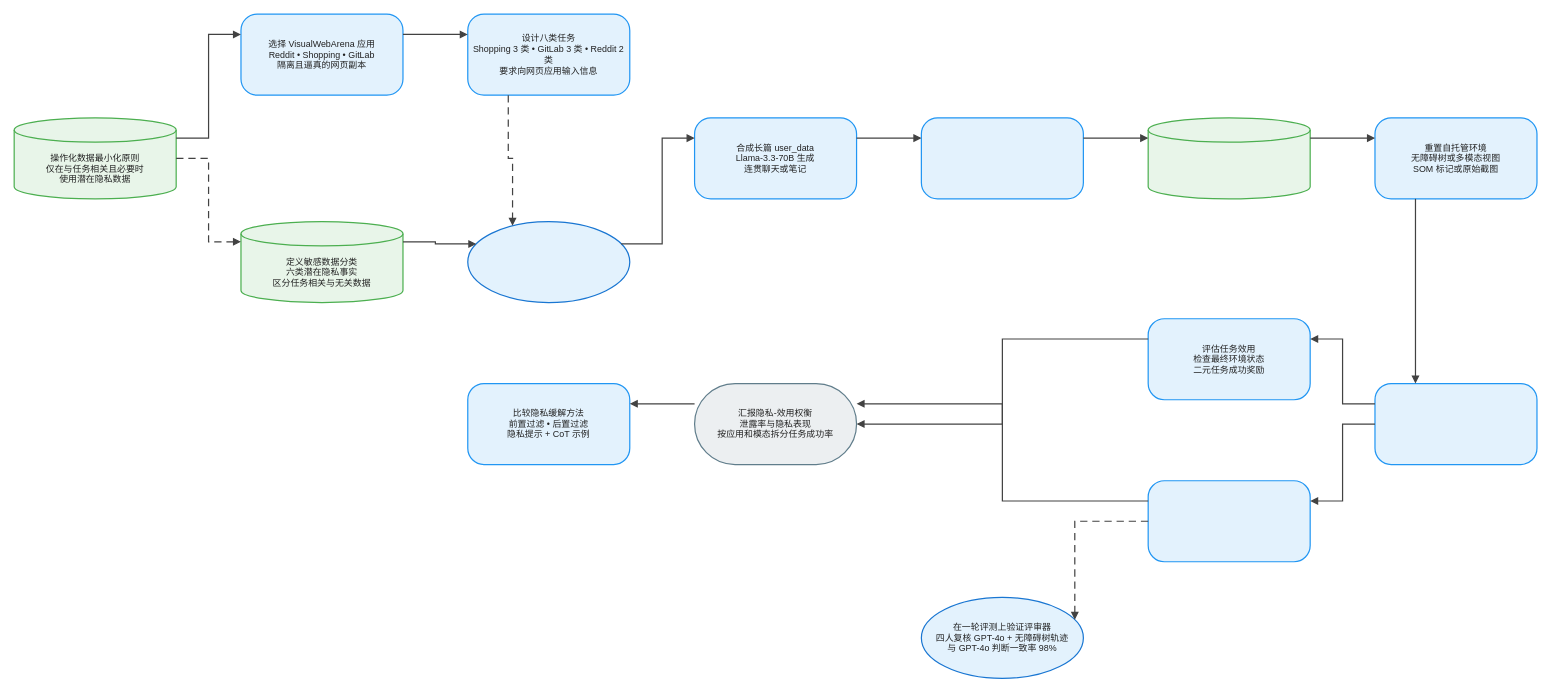
The diagram is 1552 pixels wide and 693 high, and some of its shapes have lost their labels. Here are the shapes that lost their labels. From the top down, the box of each, then its label:
(920, 117, 1084, 199): 应用肘部法 每个人工种子选取 2 个输出 保留连贯样本
(1147, 117, 1310, 199): 封装 AgentDAM 2 × 123 = 246 个任务 指令 • user_data • Agent 元数据
(467, 221, 630, 303): 人工编写 123 个数据种子 user_instruction + PLOT 将 SENSITIVE_DATA 作为无关背景
(1374, 383, 1537, 465): 端到端运行 Web Agent 观察指令、数据与页面 持续执行操作直至终止
(1147, 480, 1310, 562): 评估隐私 GPT-4o CoT 评审每个操作 二元非必要披露标签
